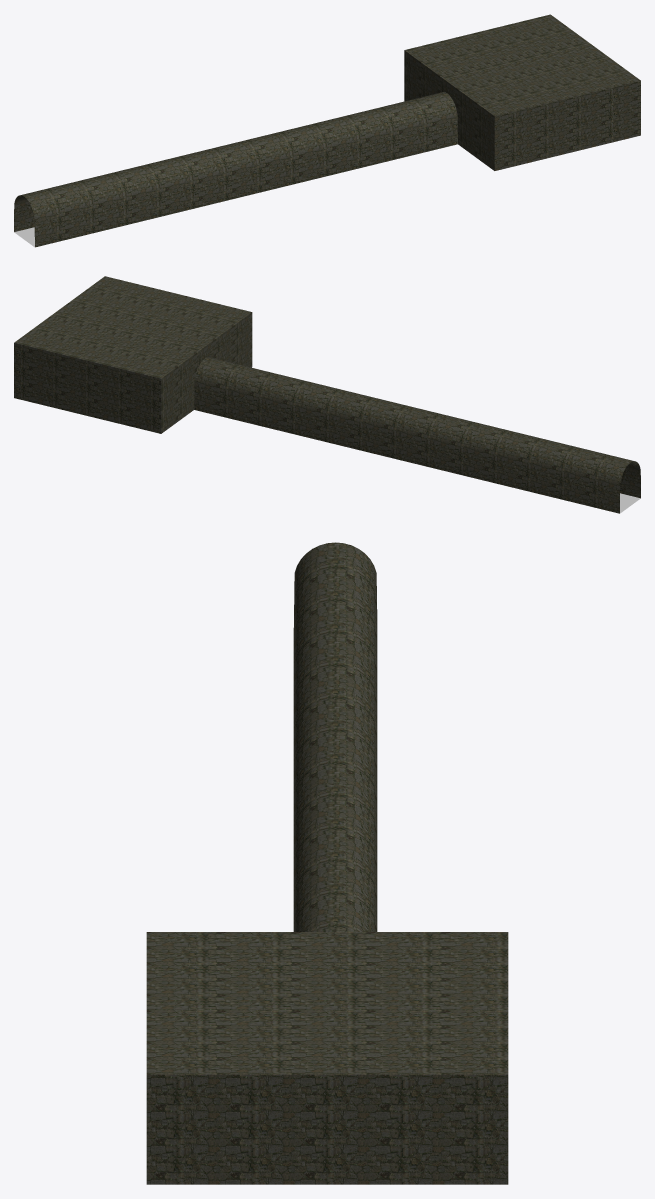
Rendered from Room7.fbx.
3 views of the same model, one above another, from view 1: azimuth 30°, elevation 25°; view 2: azimuth 150°, elevation 25°; view 3: azimuth 270°, elevation 25° (orthographic). The views are drawn at different scales.
Parts seen in each view (by area): view 1: Room7; view 2: Room7; view 3: Room7.
Part boxes in pixels (x1,y1,x2,y2): Room7: (14, 14, 640, 247); Room7: (14, 276, 640, 513); Room7: (146, 542, 508, 1184).
Size of the model in its own units: 10318 by 951 by 2838.
